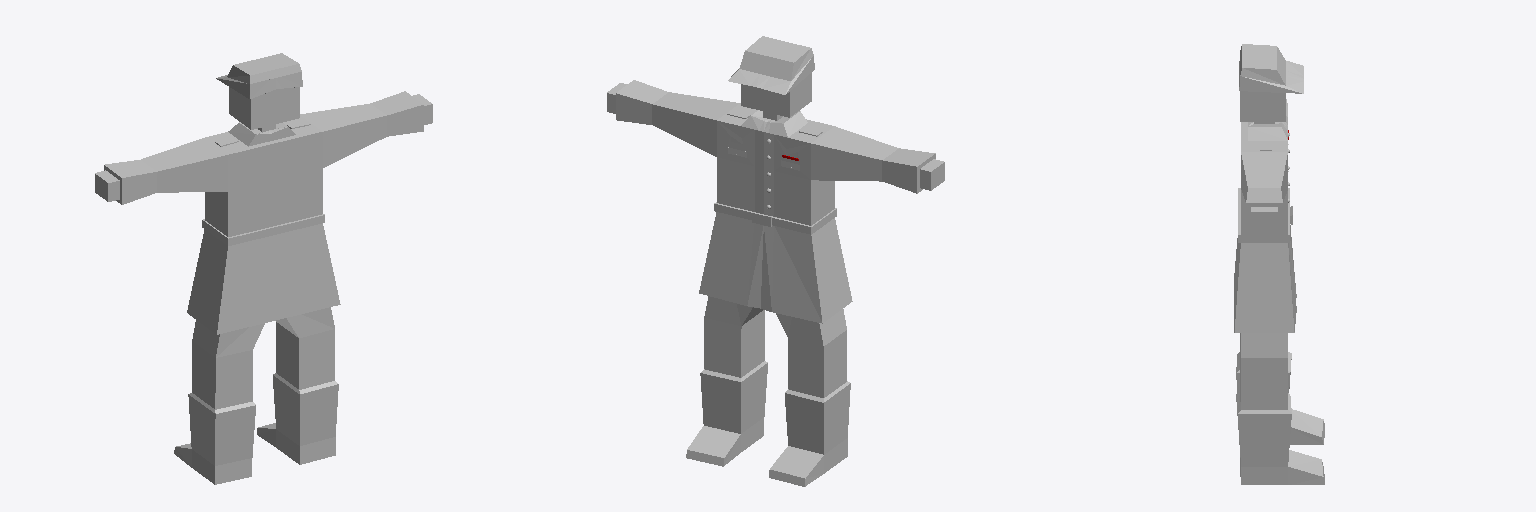
The model's file is militarMan.obj.
3 renders of one model, left to right at view 1: azimuth 30°, elevation 25°; view 2: azimuth 150°, elevation 25°; view 3: azimuth 270°, elevation 25°, orthographic.
Visible parts, largest first — view 1: Cube_Cube.001; view 2: Cube_Cube.001; view 3: Cube_Cube.001.
Part boxes in pixels (x1,y1,x2,y2): Cube_Cube.001: (95,53,432,484); Cube_Cube.001: (607,36,944,486); Cube_Cube.001: (1234,44,1324,484).
Size of the model in its own units: 6.36 by 7.5 by 1.55.